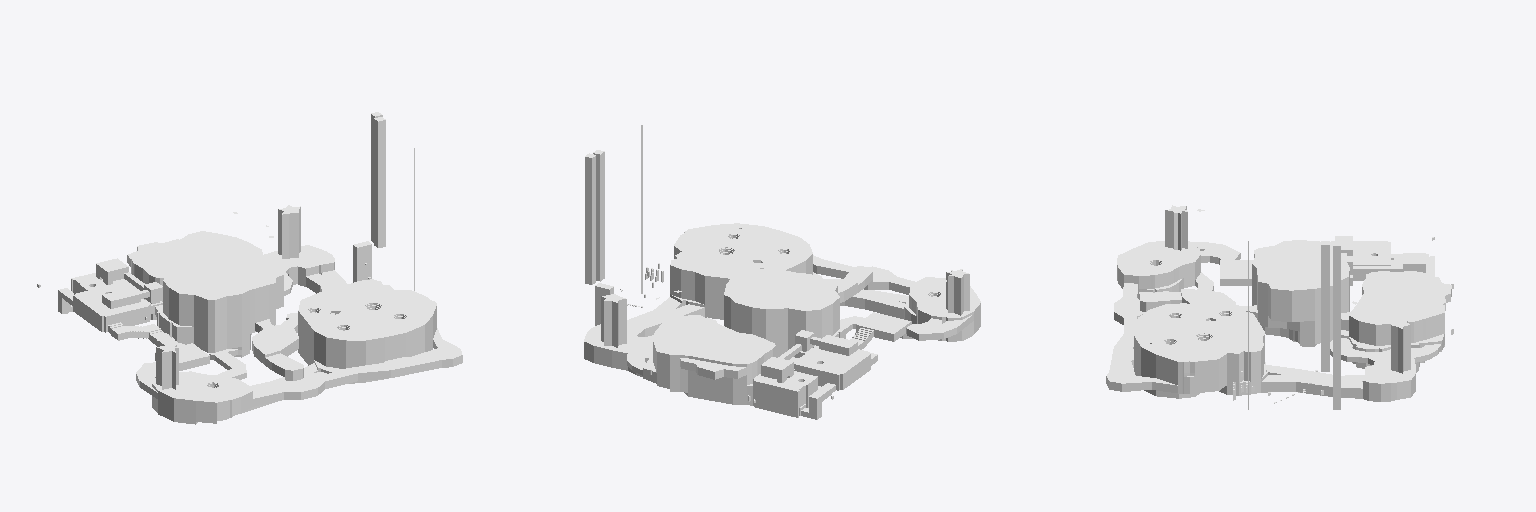
The model's file is MAPMA_FrostColumns.obj.
3 renders of one model, left to right at view 1: azimuth 30°, elevation 25°; view 2: azimuth 150°, elevation 25°; view 3: azimuth 270°, elevation 25°, orthographic.
Parts seen in each view (by area): view 1: MAPMA; view 2: MAPMA; view 3: MAPMA.
Boxes of the visible parts, x1,y1,x2,y2 form: MAPMA: [37, 112, 462, 424]; MAPMA: [584, 125, 980, 419]; MAPMA: [1106, 205, 1453, 409].
Size of the model in its own units: 7744 by 4096 by 7616.